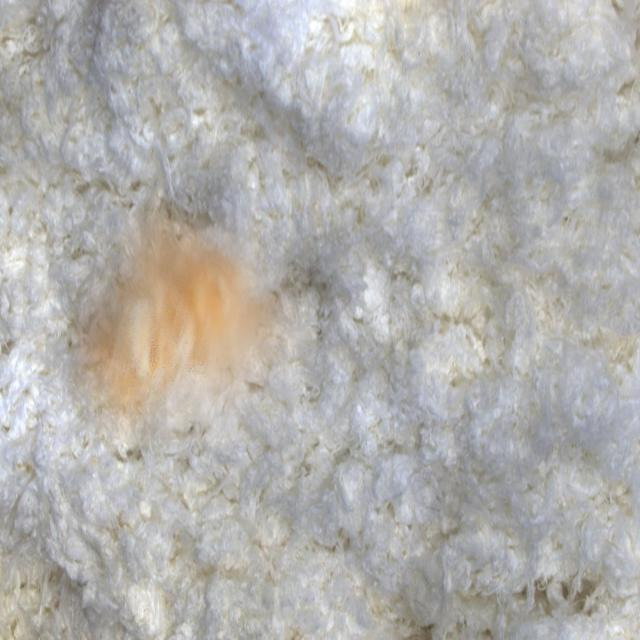dust: (67, 177, 310, 446)
